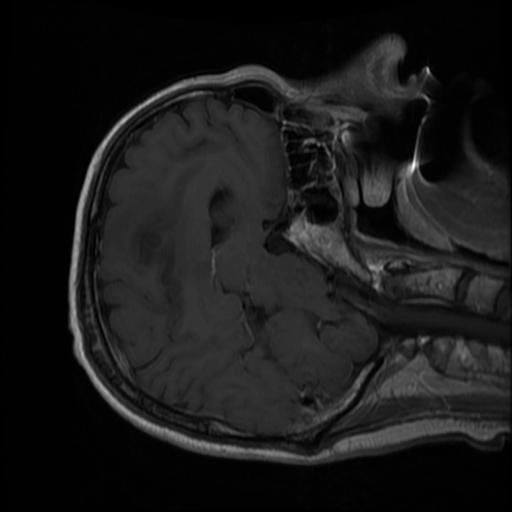glioma: (129, 217, 167, 279)
